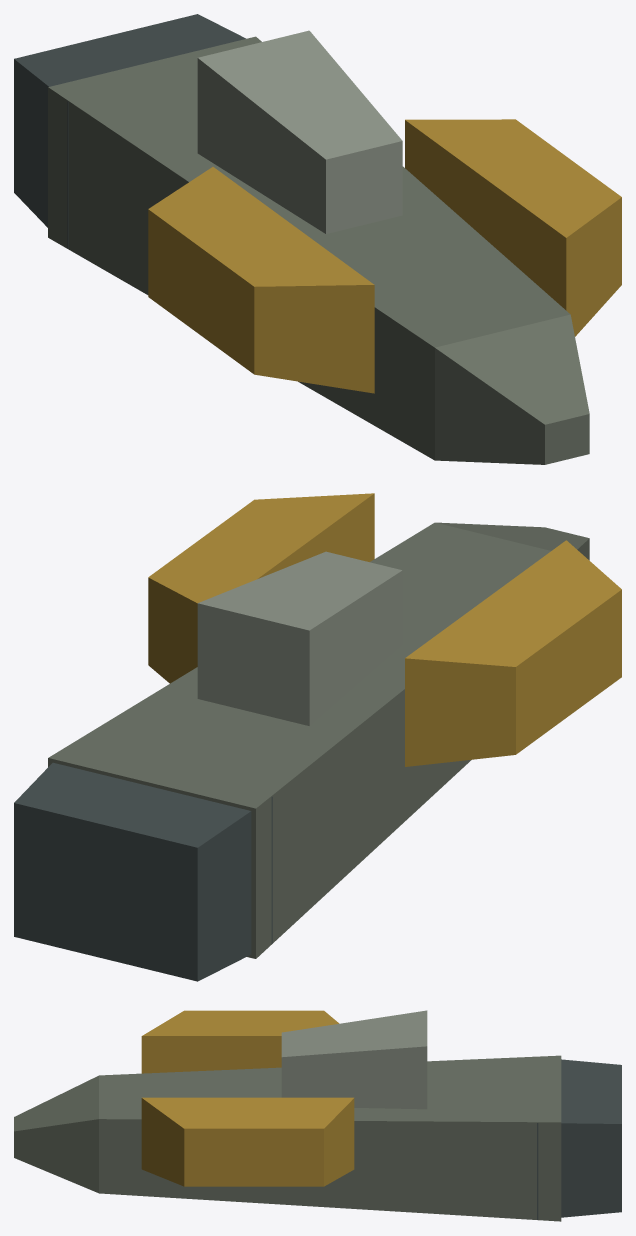
The model's file is gunship.obj.
3 views of the same model, one above another, from view 1: azimuth 30°, elevation 25°; view 2: azimuth 150°, elevation 25°; view 3: azimuth 270°, elevation 25° (orthographic). The views are drawn at different scales.
Size of the model in its own units: 0.46 by 0.29 by 1.
